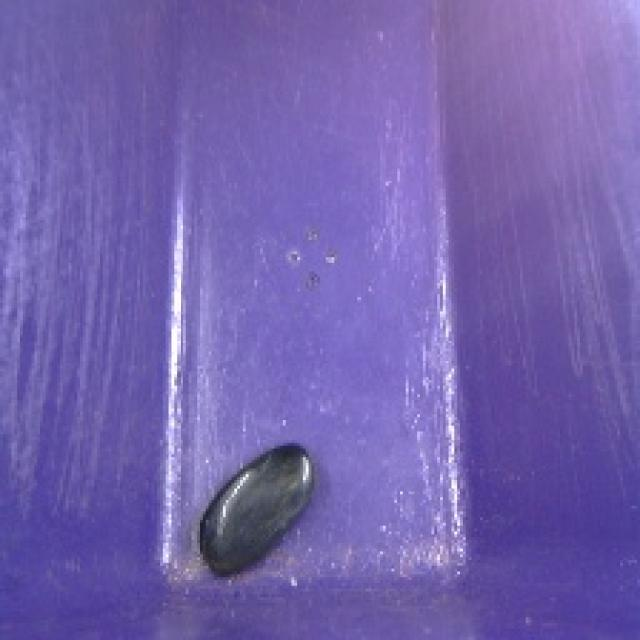cobbles: (191, 429, 323, 586)
